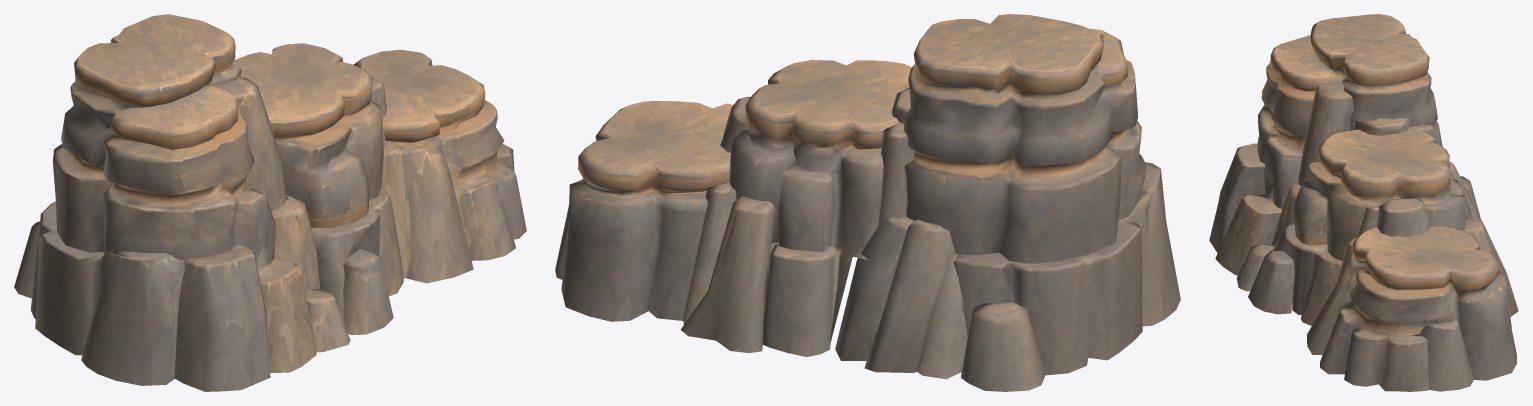
Rendered from Falesia.glb.
3 renders of one model, left to right at view 1: azimuth 30°, elevation 25°; view 2: azimuth 150°, elevation 25°; view 3: azimuth 270°, elevation 25°, orthographic. The views are drawn at different scales.
Size of the model in its own units: 1 by 0.5234 by 0.7031.
Materials: 1 (1 with a texture image).
